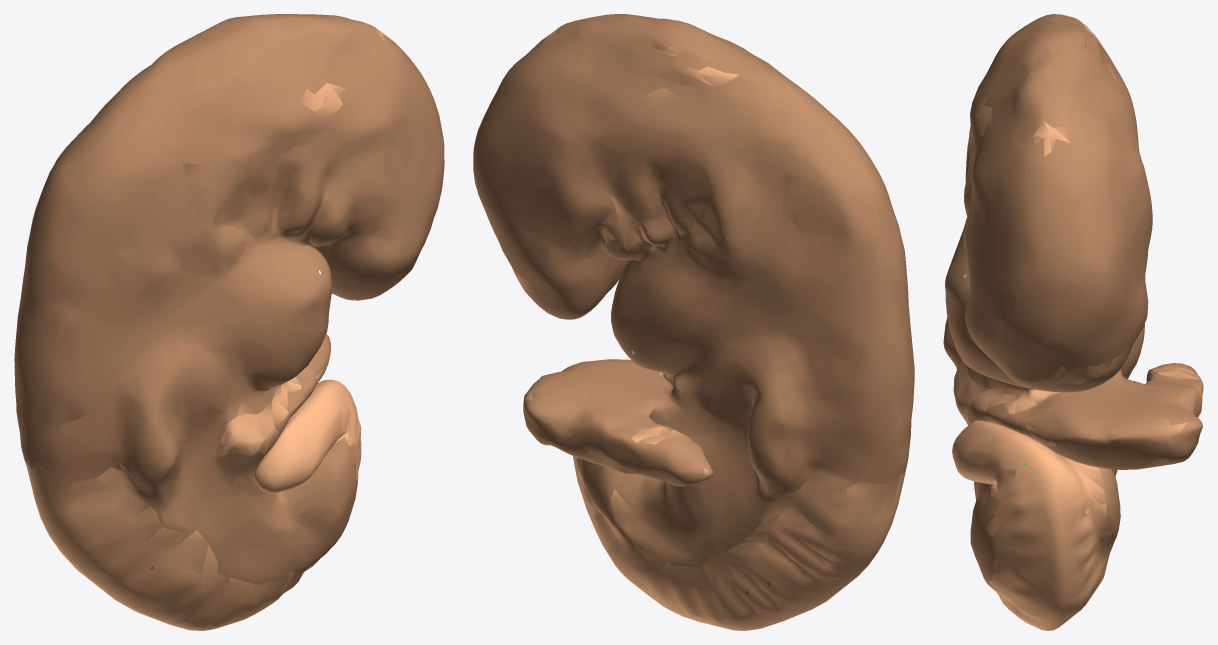
The model's file is Puzzle_Structure.fbx.
3 views of the same model, side by side, from view 1: azimuth 30°, elevation 25°; view 2: azimuth 150°, elevation 25°; view 3: azimuth 270°, elevation 25° (orthographic).
Visible parts, largest first — view 1: Skin; view 2: Skin; view 3: Skin.
Boxes of the visible parts, x1=… form: Skin: x1=14, y1=14, x2=444, y2=630; Skin: x1=473, y1=14, x2=914, y2=630; Skin: x1=943, y1=14, x2=1203, y2=630.
Size of the model in its own units: 30.72 by 41.52 by 16.28.
